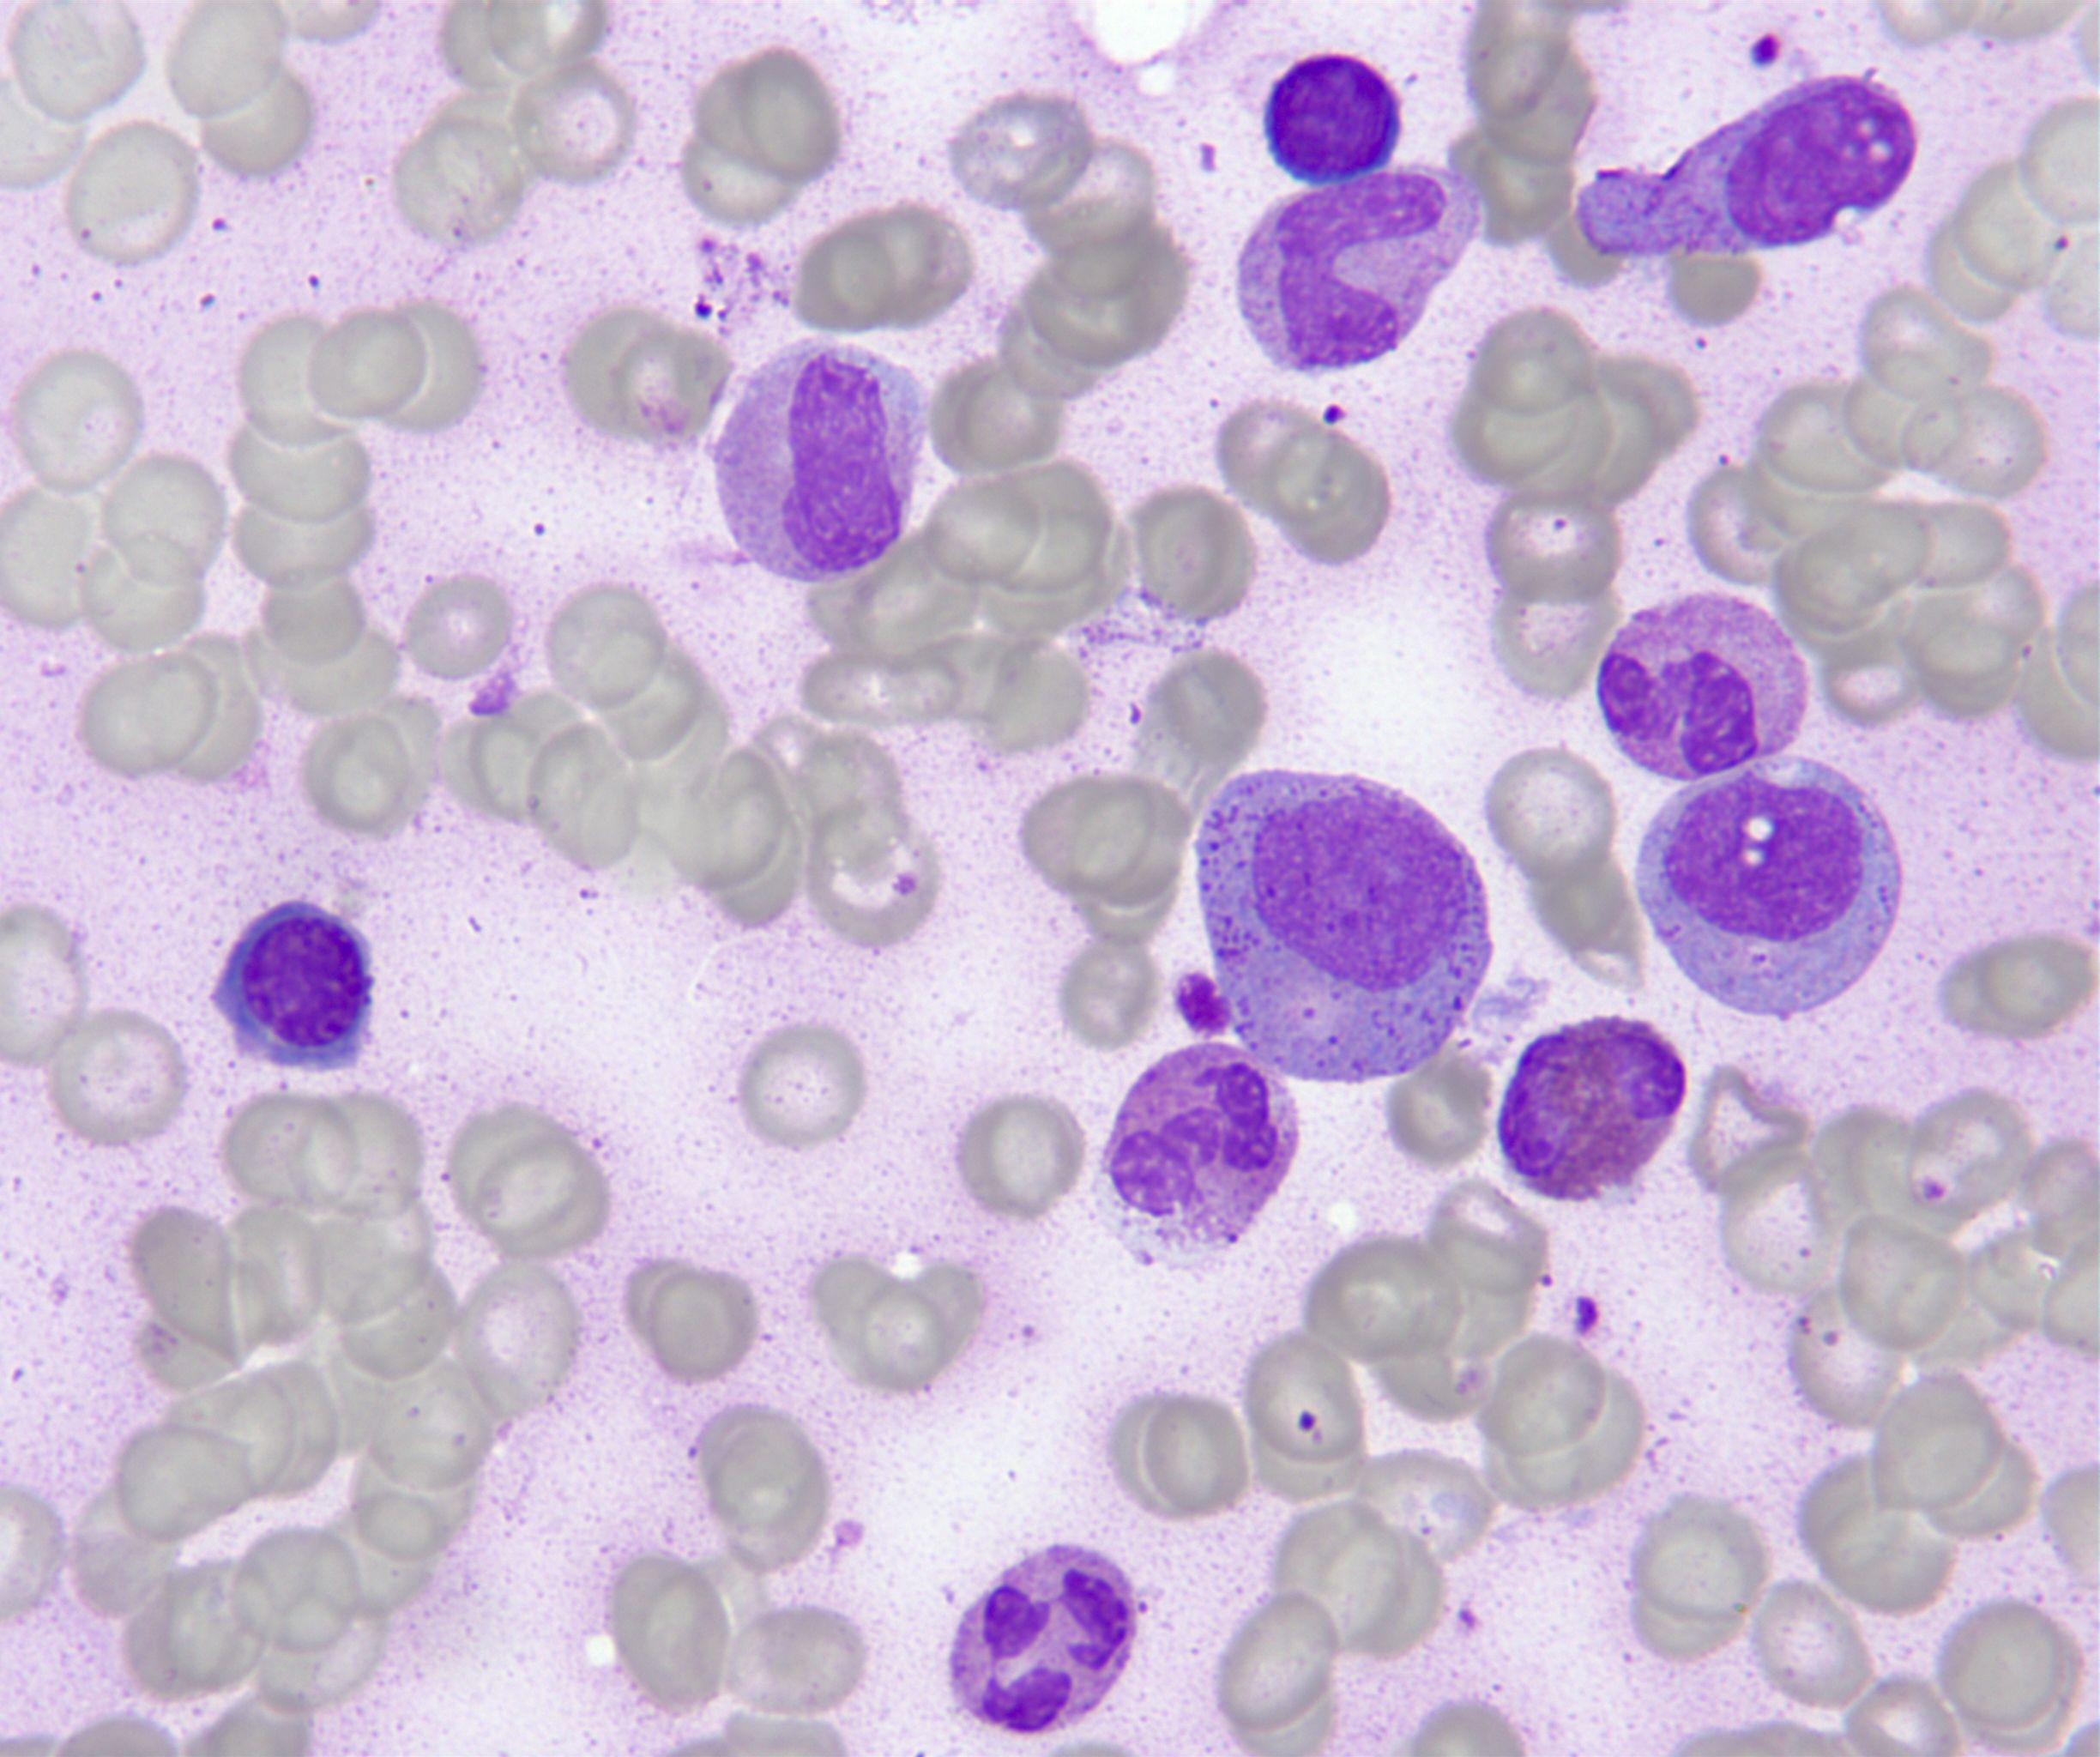2: (1195, 769, 1493, 1084), (1575, 77, 1915, 258)
23: (209, 904, 377, 1070)
3: (1636, 755, 1901, 1015)
32: (1266, 56, 1401, 183)
4: (713, 340, 924, 581), (1240, 166, 1483, 373)
5: (1598, 595, 1809, 780)
6: (1099, 1042, 1298, 1258), (949, 1546, 1137, 1733)
E4: (1497, 1015, 1683, 1202)
